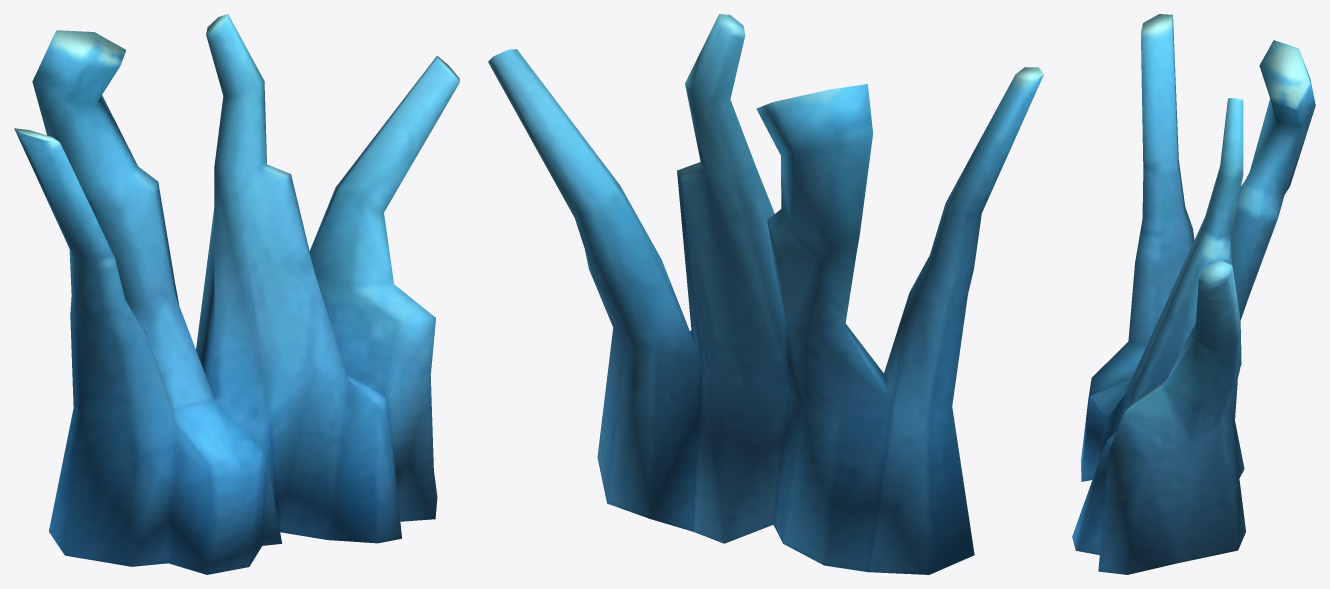
The model's file is Stage_BingYuan_BingLing02.FBX.
3 views of the same model, side by side, from view 1: azimuth 30°, elevation 25°; view 2: azimuth 150°, elevation 25°; view 3: azimuth 270°, elevation 25° (orthographic). The views are drawn at different scales.
Parts seen in each view (by area): view 1: Stage_BingYuan_BingLing02; view 2: Stage_BingYuan_BingLing02; view 3: Stage_BingYuan_BingLing02.
Boxes of the visible parts, bbox=[...] form: Stage_BingYuan_BingLing02: bbox=[14, 14, 459, 574]; Stage_BingYuan_BingLing02: bbox=[488, 14, 1043, 574]; Stage_BingYuan_BingLing02: bbox=[1072, 14, 1315, 574].
Bounding box in the file's own units: 180 × 180 × 92.93.
